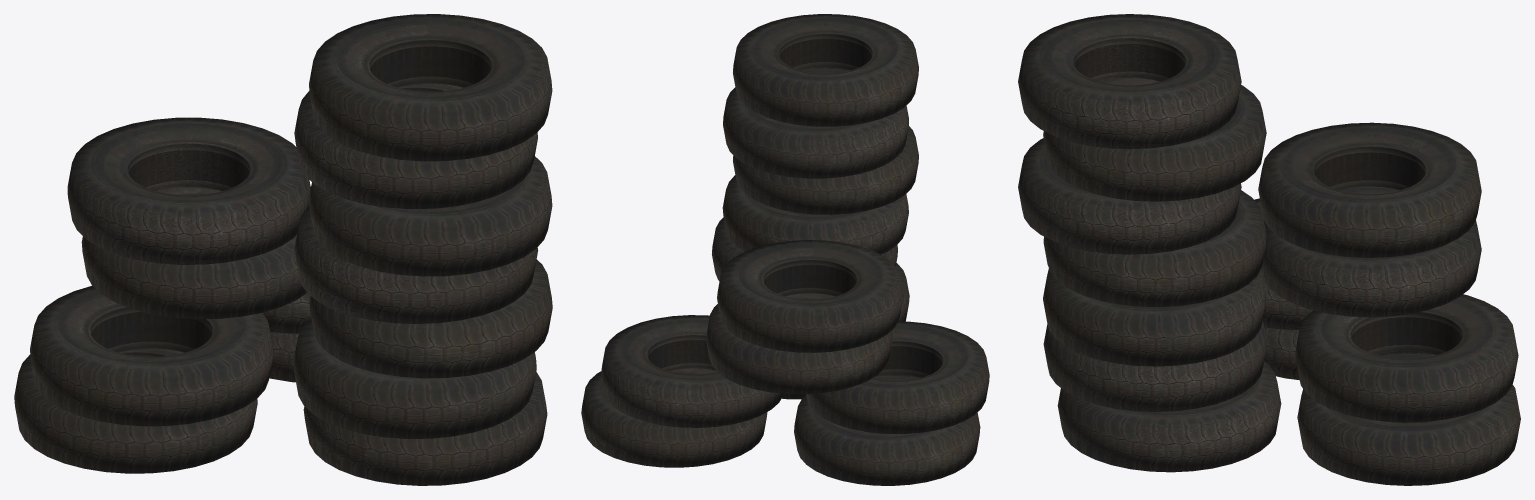
Rendered from tire_stack_b.glb.
The picture shows the model from 3 angles, left to right: view 1: azimuth 30°, elevation 25°; view 2: azimuth 150°, elevation 25°; view 3: azimuth 270°, elevation 25°; orthographic projection. The views are drawn at different scales.
Parts seen in each view (by area): view 1: tire_stack_b_LOD0; view 2: tire_stack_b_LOD0; view 3: tire_stack_b_LOD0.
Boxes of the visible parts, <box> form: tire_stack_b_LOD0: <box>14,14,552,485</box>; tire_stack_b_LOD0: <box>581,14,989,485</box>; tire_stack_b_LOD0: <box>1018,14,1520,485</box>.
Size of the model in its own units: 3.28 by 2.84 by 3.51.
1 material, 1 textured.
